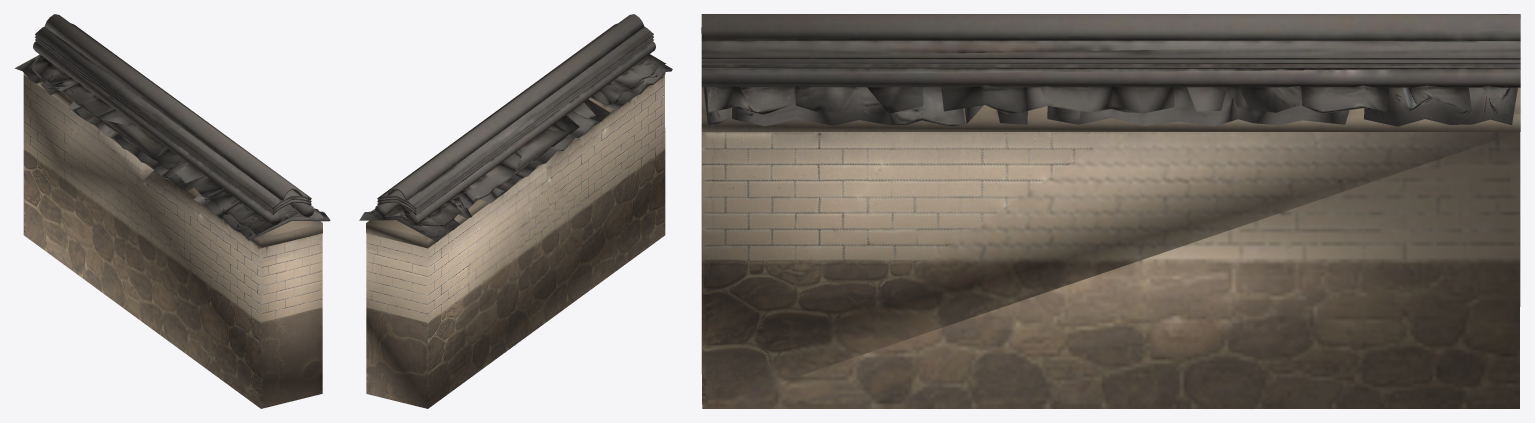
The model's file is StoneWall.fbx.
3 views of the same model, side by side, from view 1: azimuth 30°, elevation 25°; view 2: azimuth 150°, elevation 25°; view 3: azimuth 270°, elevation 25° (orthographic). The views are drawn at different scales.
Parts seen in each view (by area): view 1: StoneWall; view 2: StoneWall; view 3: StoneWall.
Part boxes in pixels (<box>): StoneWall: <box>14,14,330,408</box>; StoneWall: <box>359,14,672,408</box>; StoneWall: <box>701,14,1520,408</box>.
Size of the model in its own units: 60.83 by 149 by 300.
